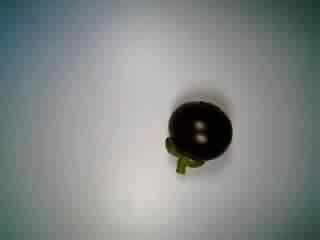mangosteen: (155, 97, 237, 176)
